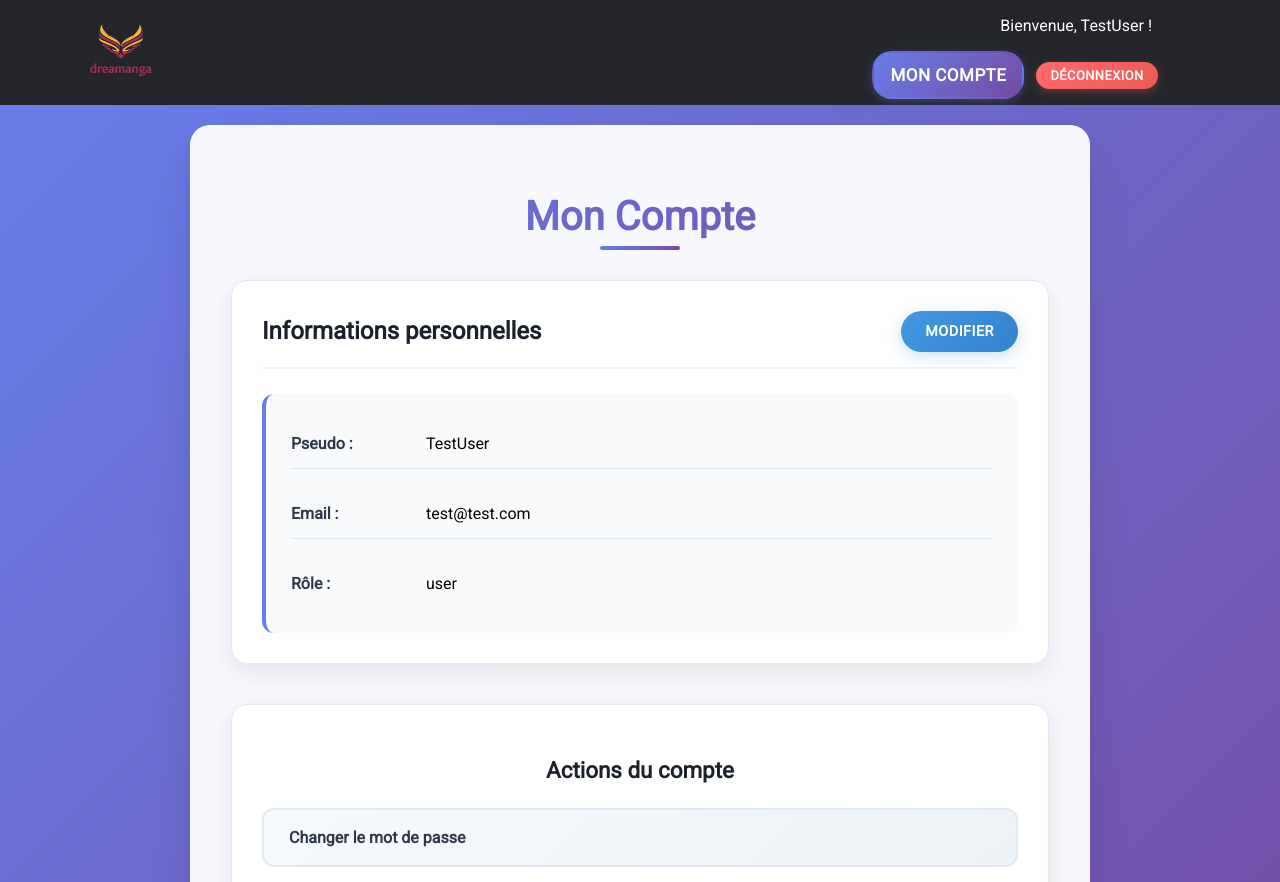
Test case: Compte Component › permet de basculer en mode édition
The image size is (1280, 882).
Click the button "Modifier": (960, 331) 901,310 -> 1018,352
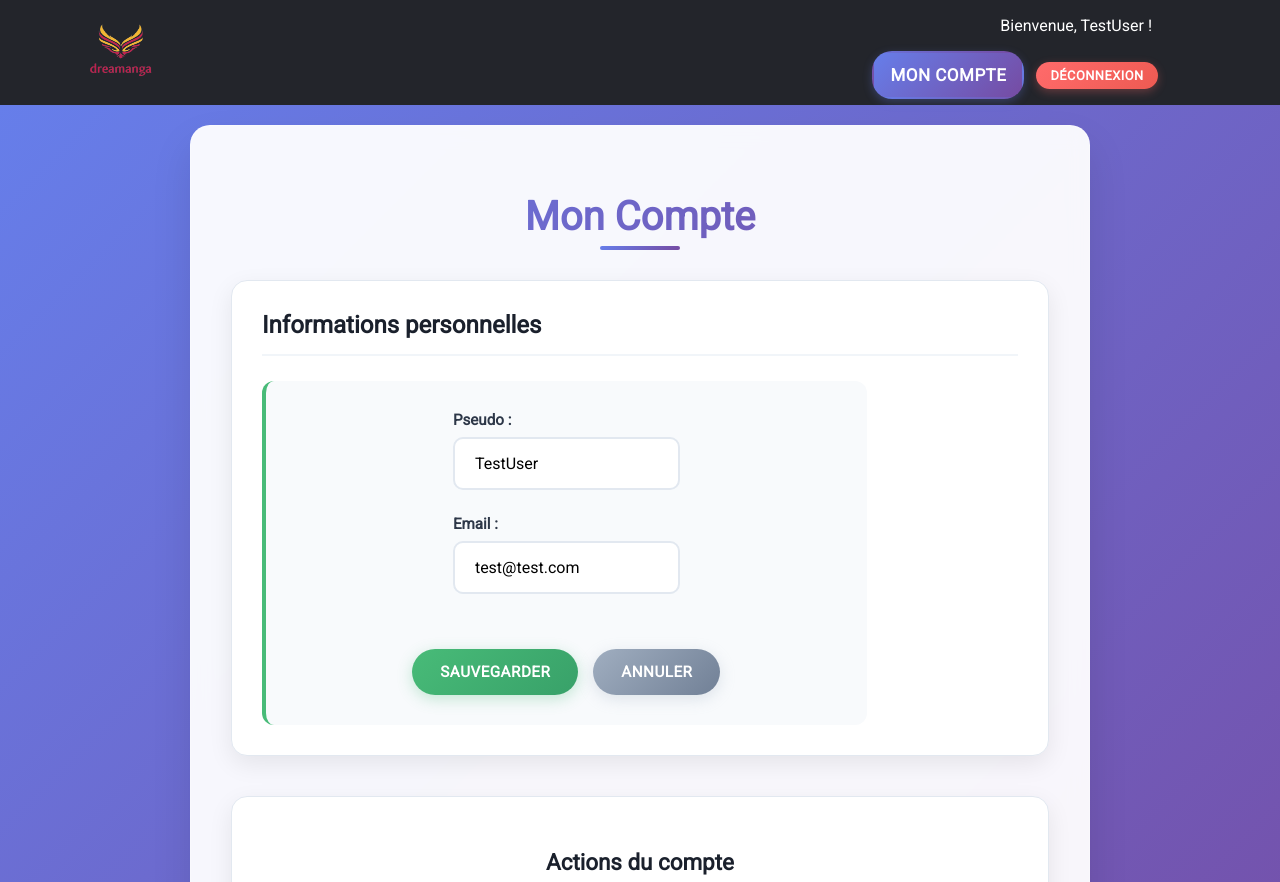
Expected: the button "Sauvegarder" is shown, 412,648 -> 578,694
Expected: the button "Annuler" is shown, 593,648 -> 720,694
